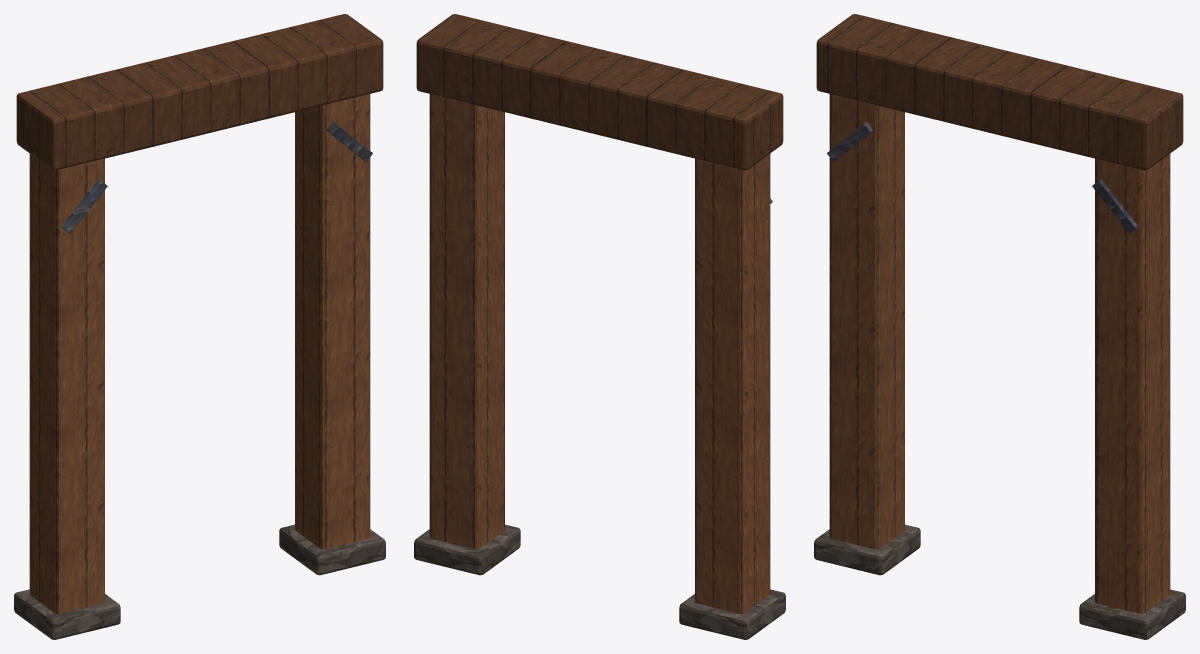
Rendered from mine_prop__copper_ingot.glb.
The picture shows the model from 3 angles, left to right: view 1: azimuth 30°, elevation 25°; view 2: azimuth 150°, elevation 25°; view 3: azimuth 330°, elevation 25°; orthographic projection.
Parts seen in each view (by area): view 1: model; view 2: model; view 3: model.
Boxes of the visible parts, left/top/right/bottom form: model: left=14, top=14, right=385, bottom=639; model: left=414, top=14, right=785, bottom=639; model: left=814, top=14, right=1185, bottom=639.
Bounding box in the file's own units: 2.02 × 3 × 0.42.
5 materials, 5 textured.
